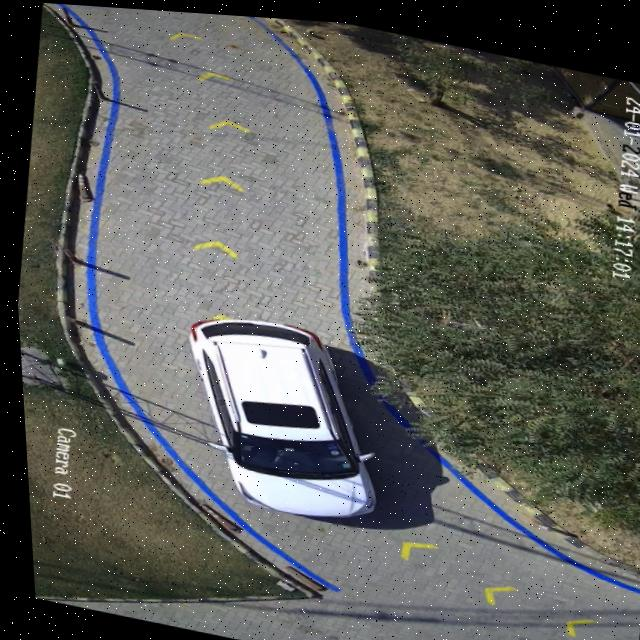car: (186, 318, 367, 512)
